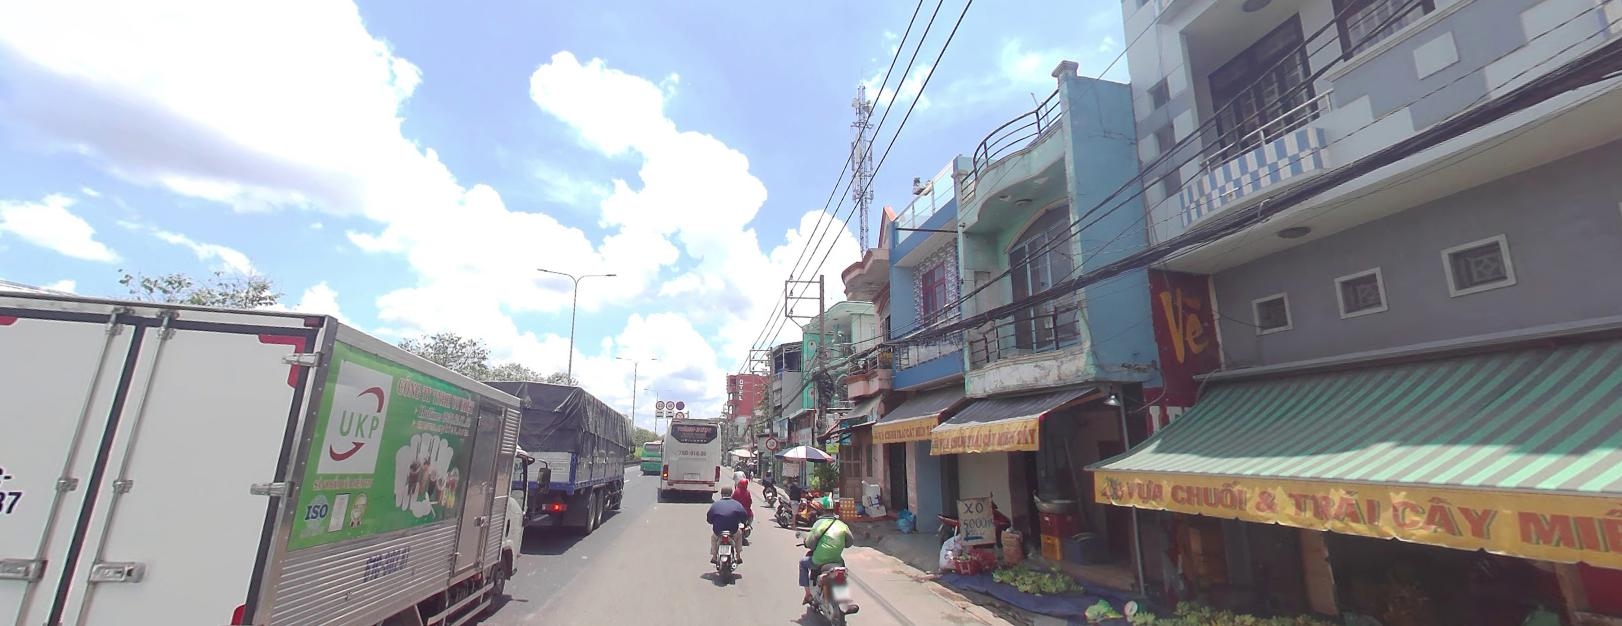Cam con lai: (655, 398, 664, 407), (675, 410, 684, 419)
Cam dung va do: (675, 399, 684, 408)
Gioi han toc do: (765, 436, 777, 448), (666, 399, 674, 407)
